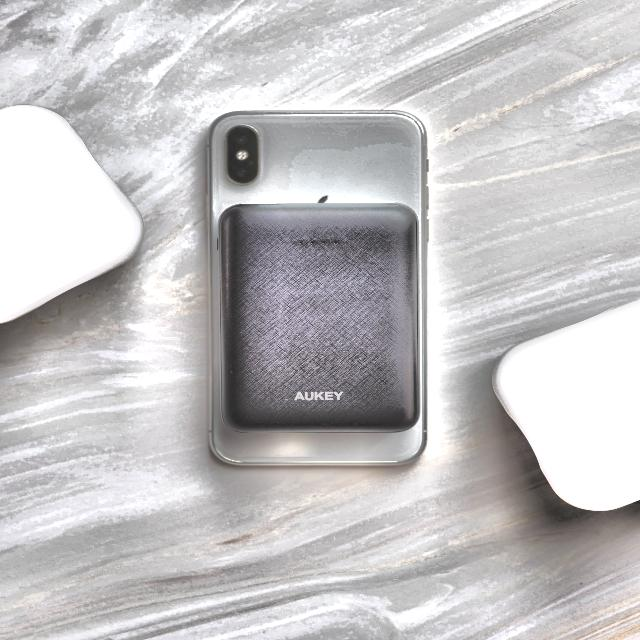Power bank: (217, 204, 419, 435)
